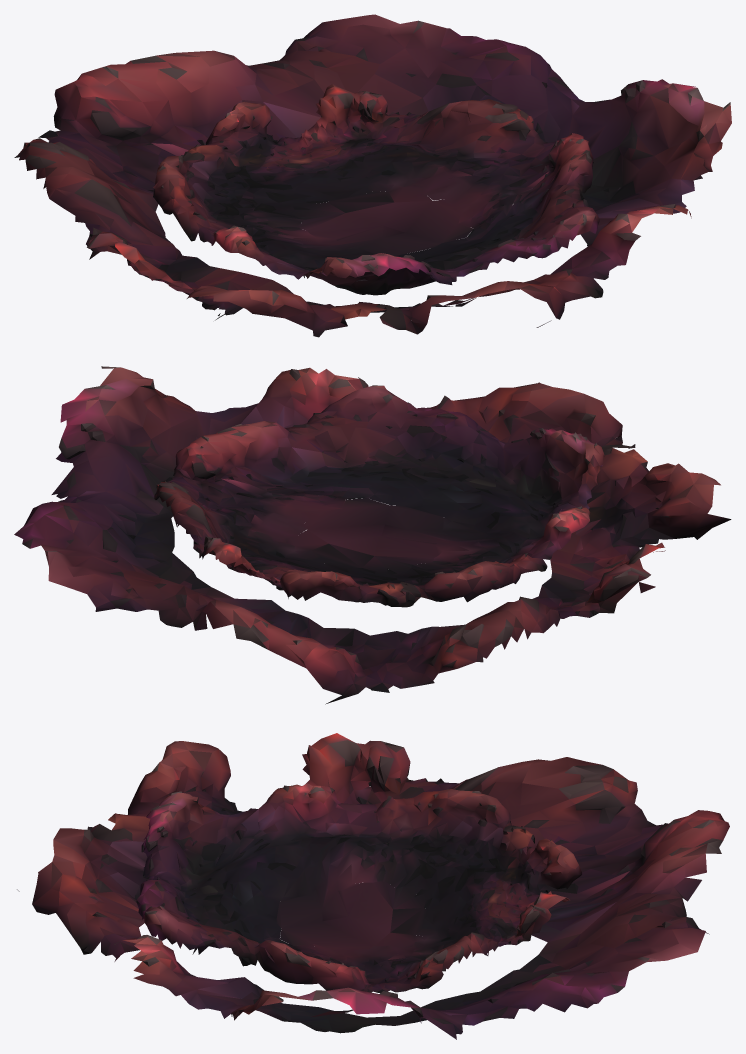
File: cos_level_01_surroundings.fbx
3 views of the same model, one above another, from view 1: azimuth 30°, elevation 25°; view 2: azimuth 150°, elevation 25°; view 3: azimuth 270°, elevation 25° (orthographic).
Visible parts, largest first — view 1: surroundings_skybox.002; view 2: surroundings_skybox.002; view 3: surroundings_skybox.002.
Part boxes in pixels (left/top/right/bottom): surroundings_skybox.002: left=14, top=14, right=731, bottom=337; surroundings_skybox.002: left=14, top=366, right=731, bottom=704; surroundings_skybox.002: left=17, top=733, right=729, bottom=1039.
Bounding box in the file's own units: 59619 × 7797 × 60903.
